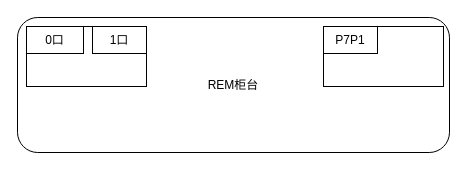
This 467x170 diagram has some shape labels left out. The box of each missing label's shape, as (x1, y1, x2, y2) in pixels:
NF11: (26, 26, 146, 86)
SF: (322, 26, 444, 86)
